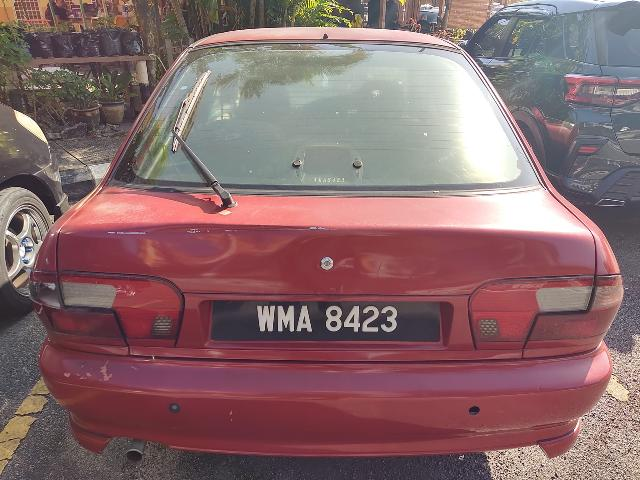License_Plate: (216, 298, 433, 344)
car: (33, 15, 625, 469)
